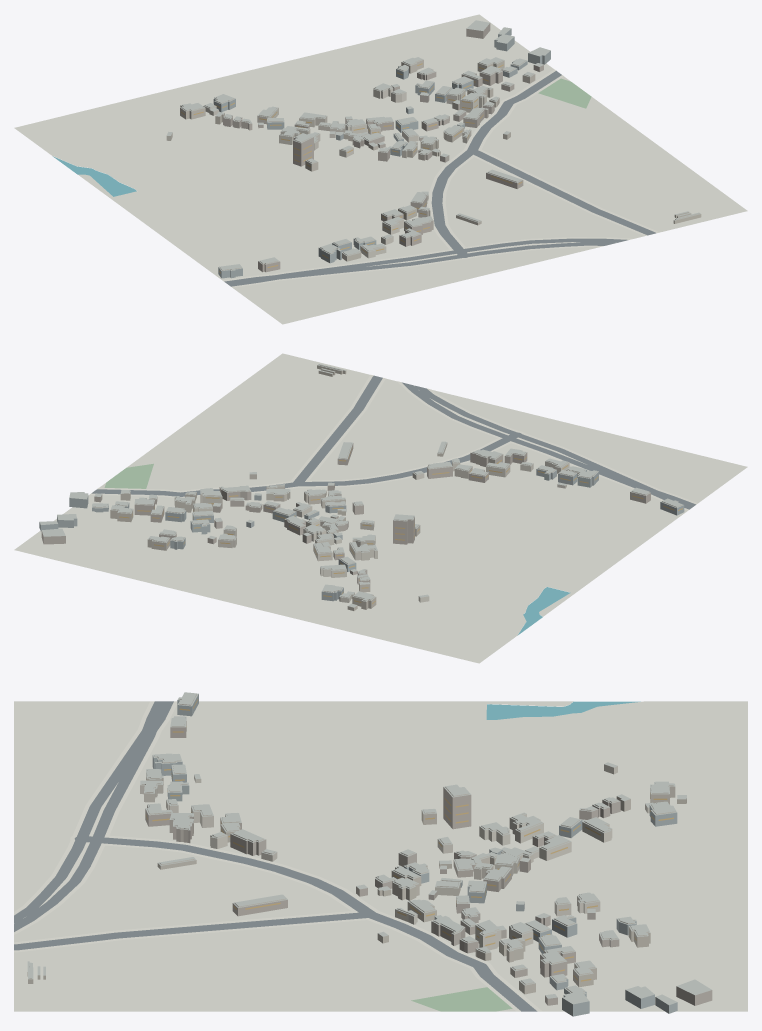
The picture shows the model from 3 angles, top to bottom: view 1: azimuth 30°, elevation 25°; view 2: azimuth 150°, elevation 25°; view 3: azimuth 270°, elevation 25°; orthographic projection. The views are drawn at different scales.
Visible parts, largest first — view 1: city; view 2: city; view 3: city.
Boxes of the visible parts, left/top/right/bottom form: city: left=14, top=14, right=747, bottom=324; city: left=14, top=353, right=747, bottom=663; city: left=14, top=692, right=747, bottom=1016.
Bounding box in the file's own units: 508 × 24.68 × 500.
